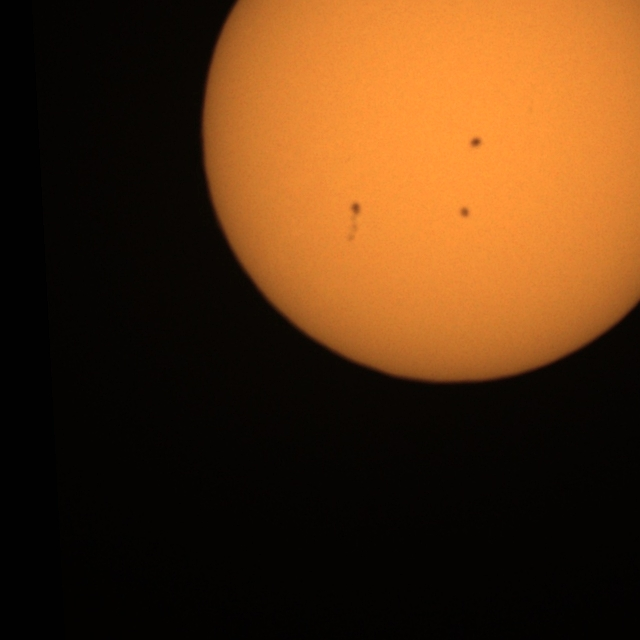sunspot: (346, 196, 364, 244), (348, 200, 362, 219), (468, 135, 484, 151), (458, 205, 471, 220)
